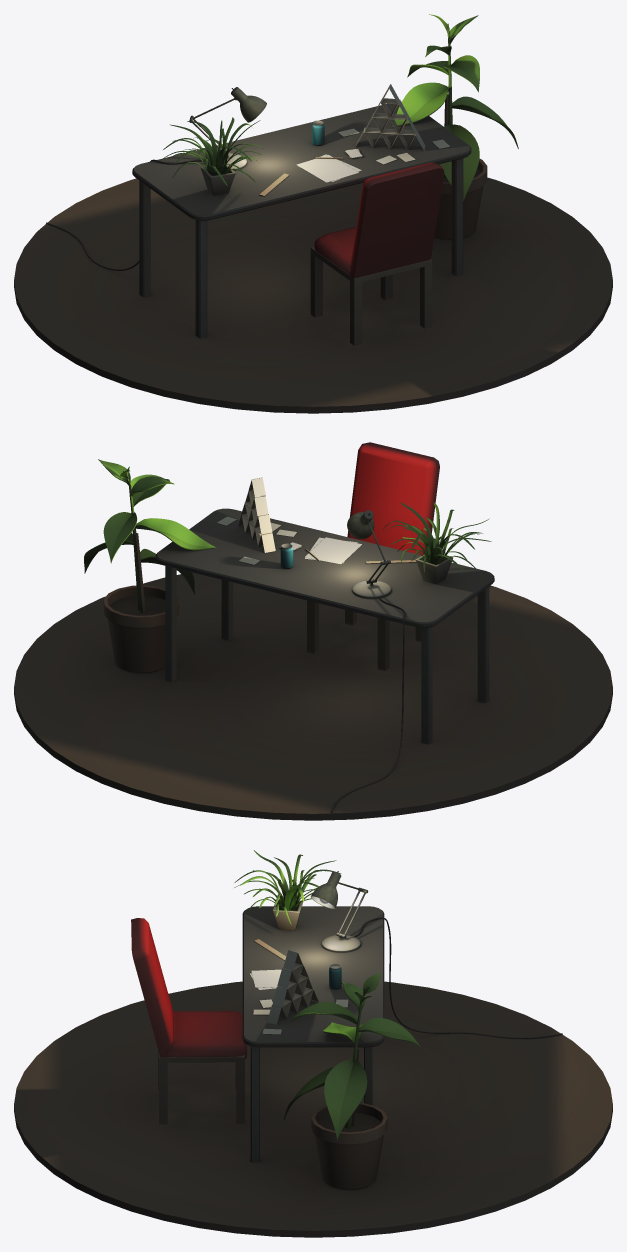
Rendered from ConfigUtilDeskScene.fbx.
The picture shows the model from 3 angles, top to bottom: view 1: azimuth 30°, elevation 25°; view 2: azimuth 150°, elevation 25°; view 3: azimuth 270°, elevation 25°; orthographic projection.
Visible parts, largest first — view 1: polySurface4, polySurface5; view 2: polySurface4, polySurface5; view 3: polySurface4, polySurface5.
Boxes of the visible parts, bbox=[...] form: polySurface4: bbox=[14, 14, 612, 413]; polySurface5: bbox=[310, 162, 444, 345]; polySurface4: bbox=[14, 459, 612, 820]; polySurface5: bbox=[307, 442, 439, 670]; polySurface4: bbox=[14, 850, 612, 1237]; polySurface5: bbox=[131, 918, 246, 1124].
Bounding box in the file's own units: 321 × 125 × 321.
Materials: 1 (1 with a texture image).
